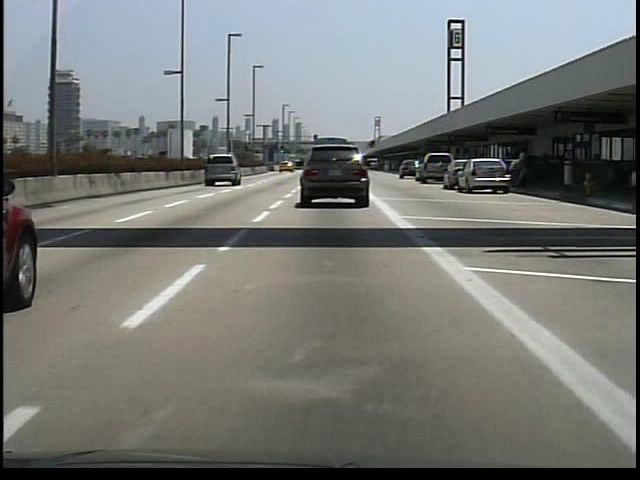person: (511, 148, 536, 191)
